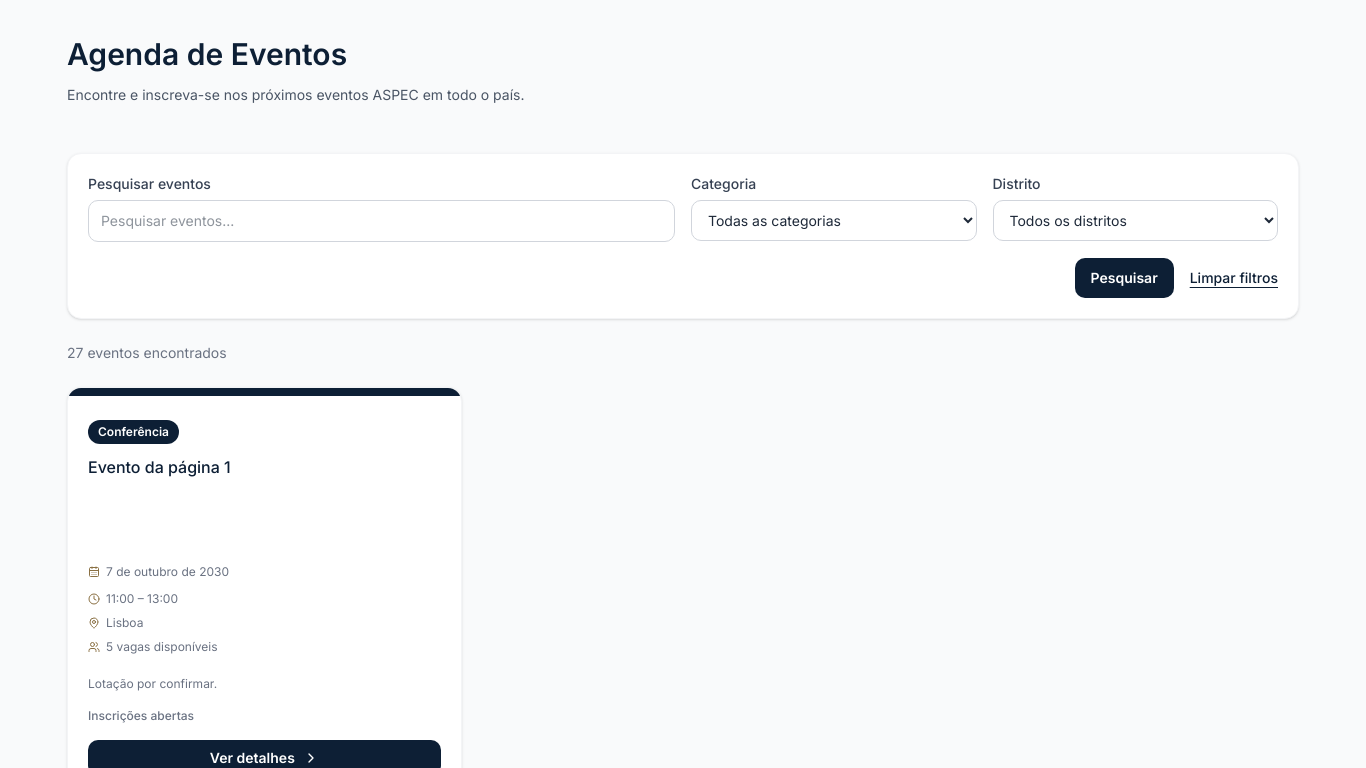
Test: EventsPage › apresenta o estado vazio amigável quando os filtros não encontram eventos
The image size is (1366, 768).
Expected: the heading "Evento da página 1" is shown, [88,457,231,477]
Select "Conferência" in the dropdown labelled "Categoria" at (834, 220), box [691,200,976,241]
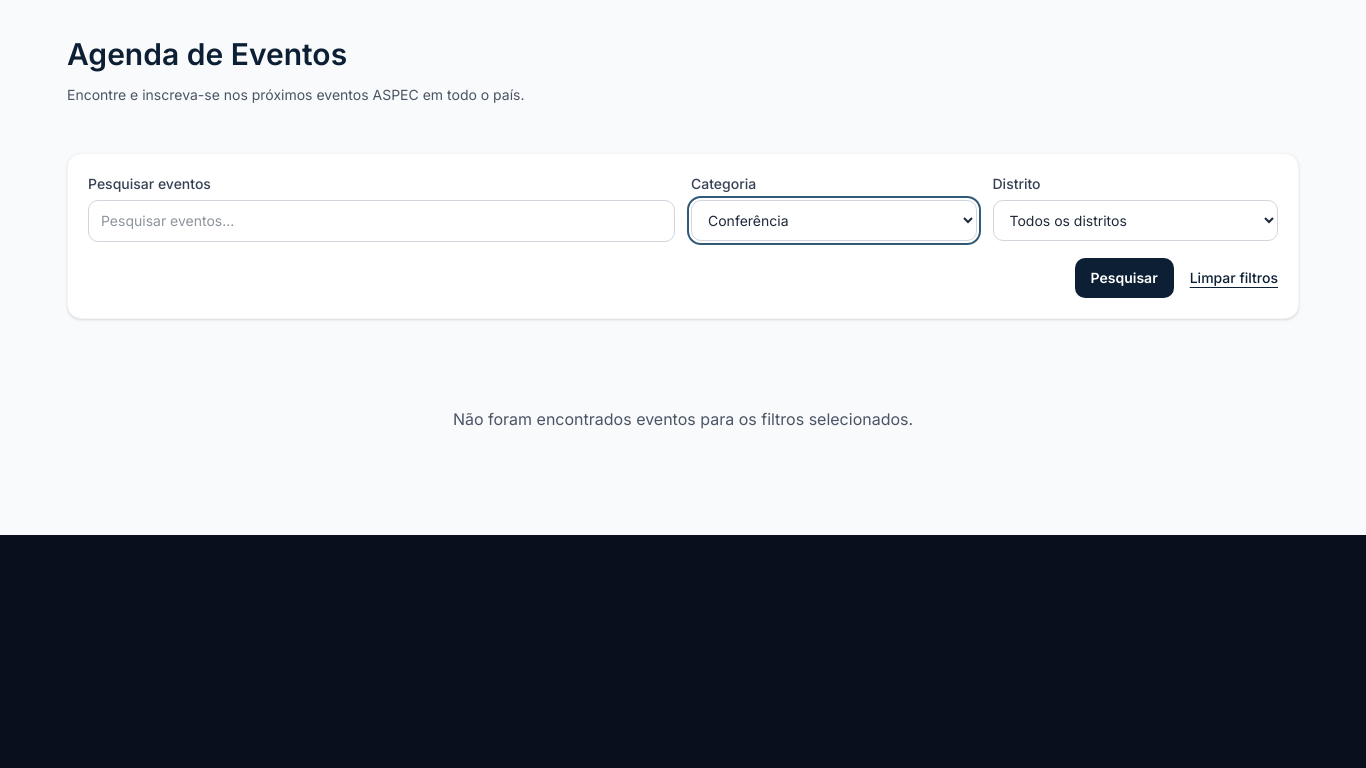
Expected: the text "Não foram encontrados eventos para os filtros selecionados." is shown, [453,409,913,429]
